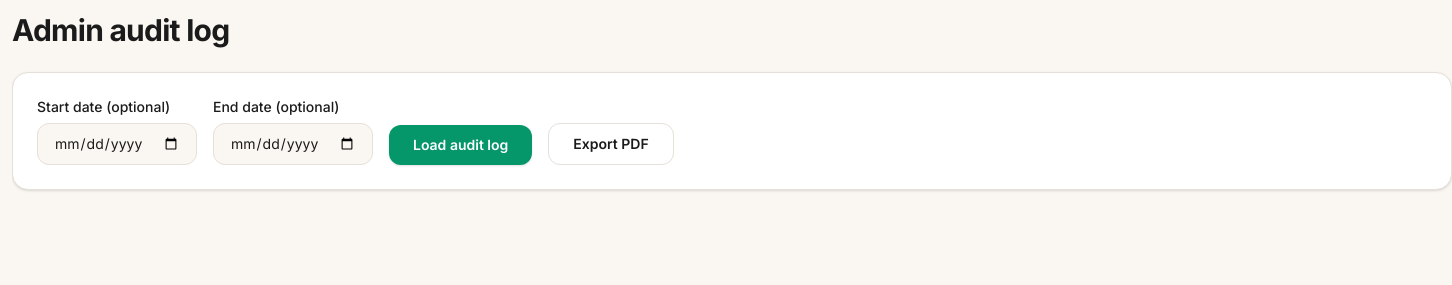
Scenario: shows the server detail on a non-OK response
Click the button "Load audit log". click: (461, 145)
box: [389,125,532,165]
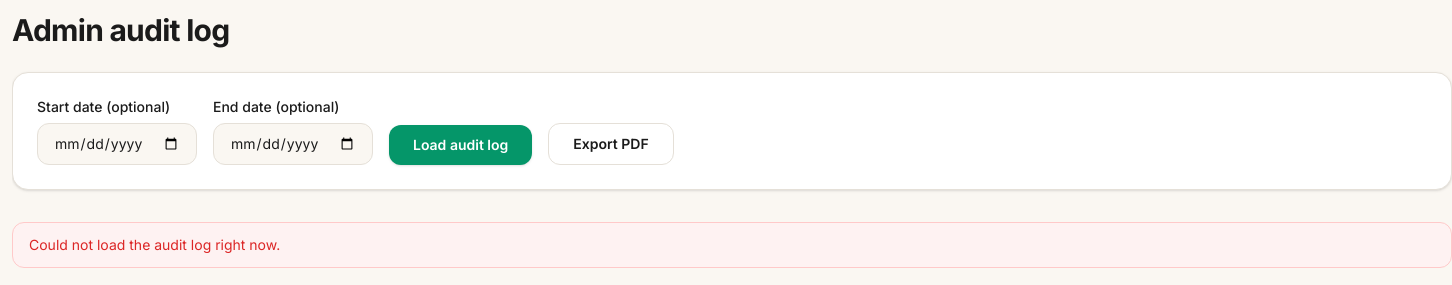
Expected: the message reads "Could not load the audit log right now.", [29,236,280,253]
